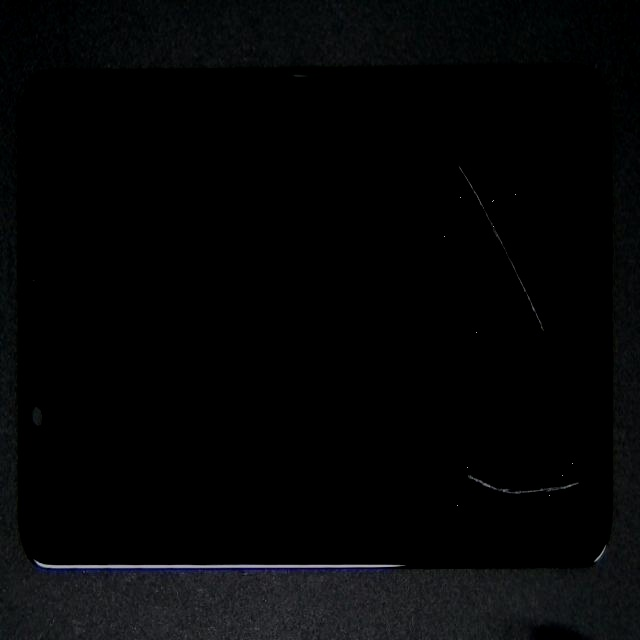scratch: (220, 254, 640, 640), (171, 0, 640, 325)
